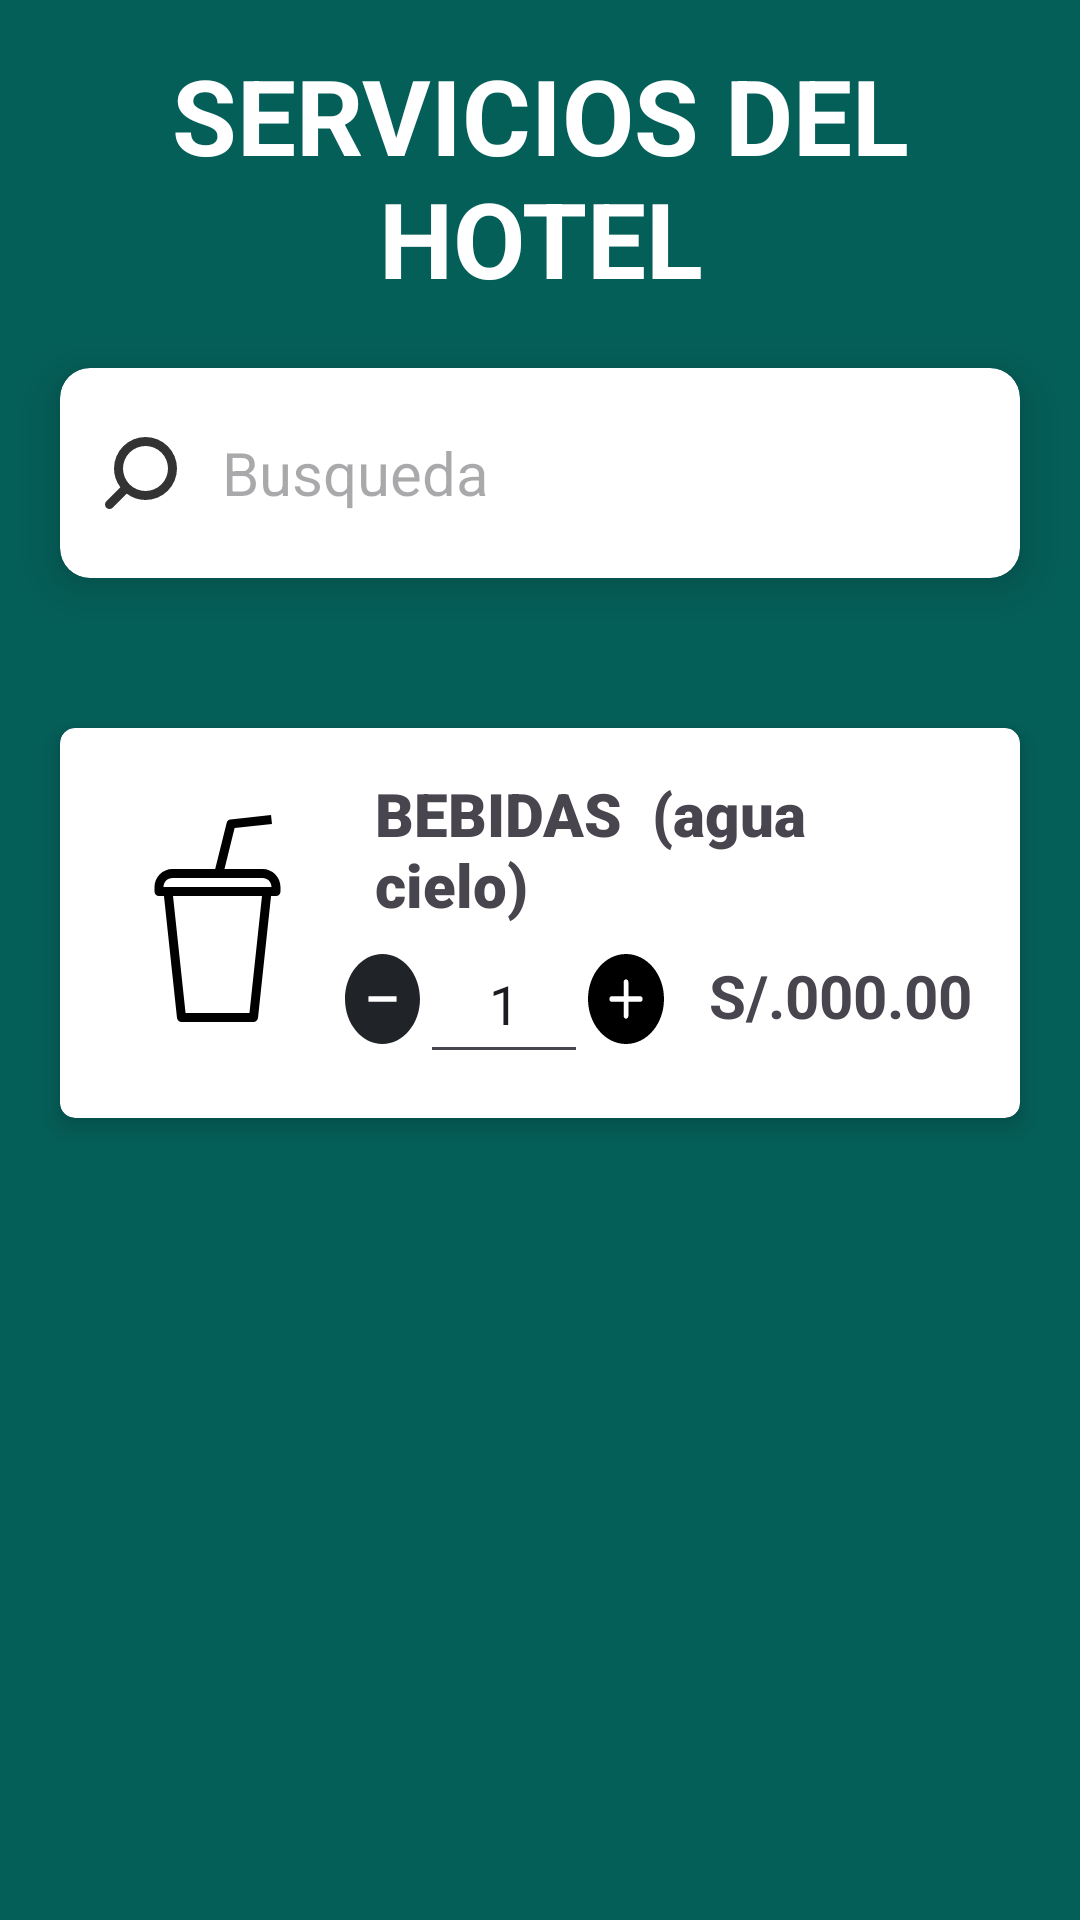

Where icons sit on this 1080 × 1920 app screen, as (x1, y1, x2, y2):
less: (345, 954, 420, 1044)
lupa: (105, 437, 177, 509)
plus: (588, 954, 664, 1044)
soda: (154, 815, 281, 1022)
